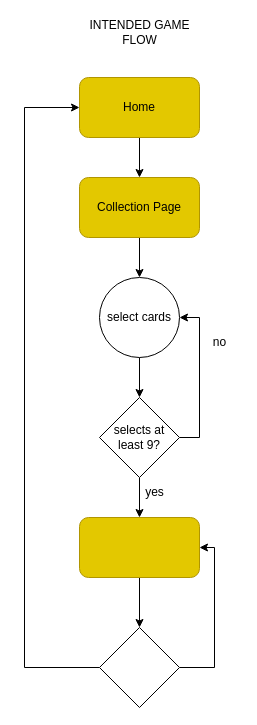
Some shapes in this 257 by 725 pixel diagram are drawn without their labels. The box of each missing label's shape, as (x1, y1, x2, y2) in pixels:
Game Page: (78, 516, 200, 578)
win/lose: (98, 626, 180, 708)
